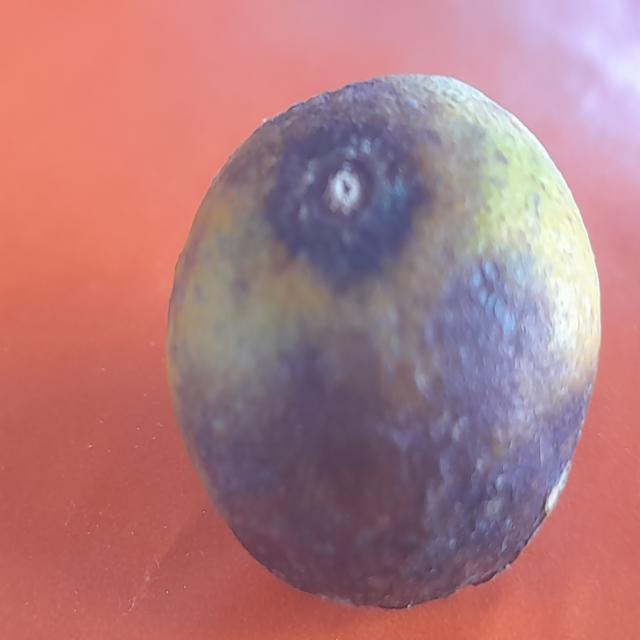black spot: (146, 68, 604, 606)
